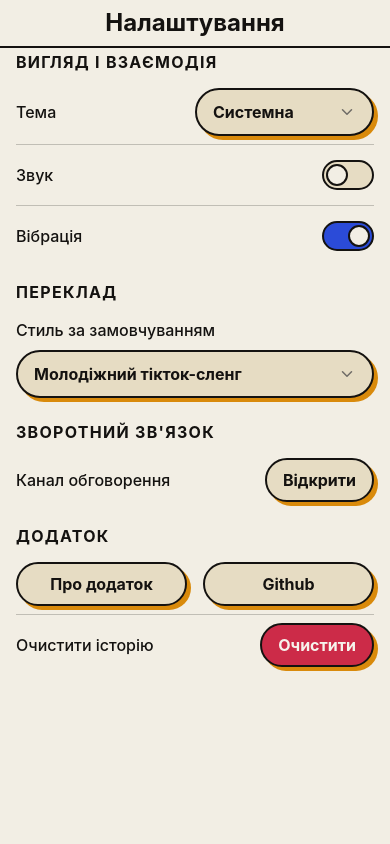
Test: SettingsPage, the «Додаток» section › shows the about line and nothing to press inside it
This screenshot has width=390, height=844.
Click the button with aria-label "Інформація про додаток" at (102, 584), box [16,562,187,606]
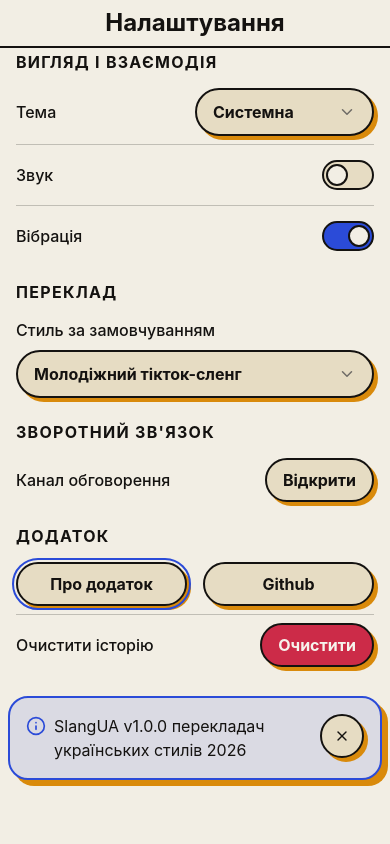
Expected: the message reads "SlangUA v1.0.0 перекладач українських стилів 2026", [54,716,264,760]
